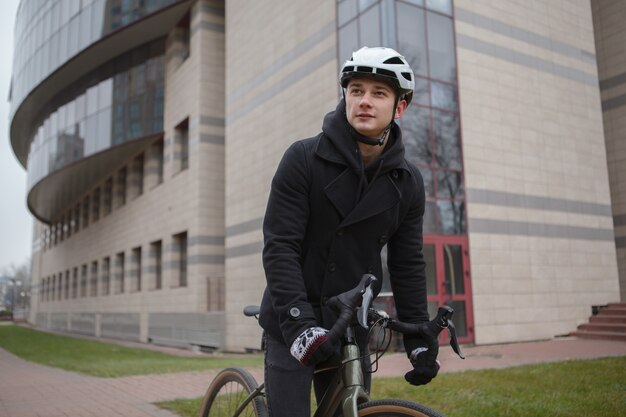helmet: (340, 46, 416, 134)
